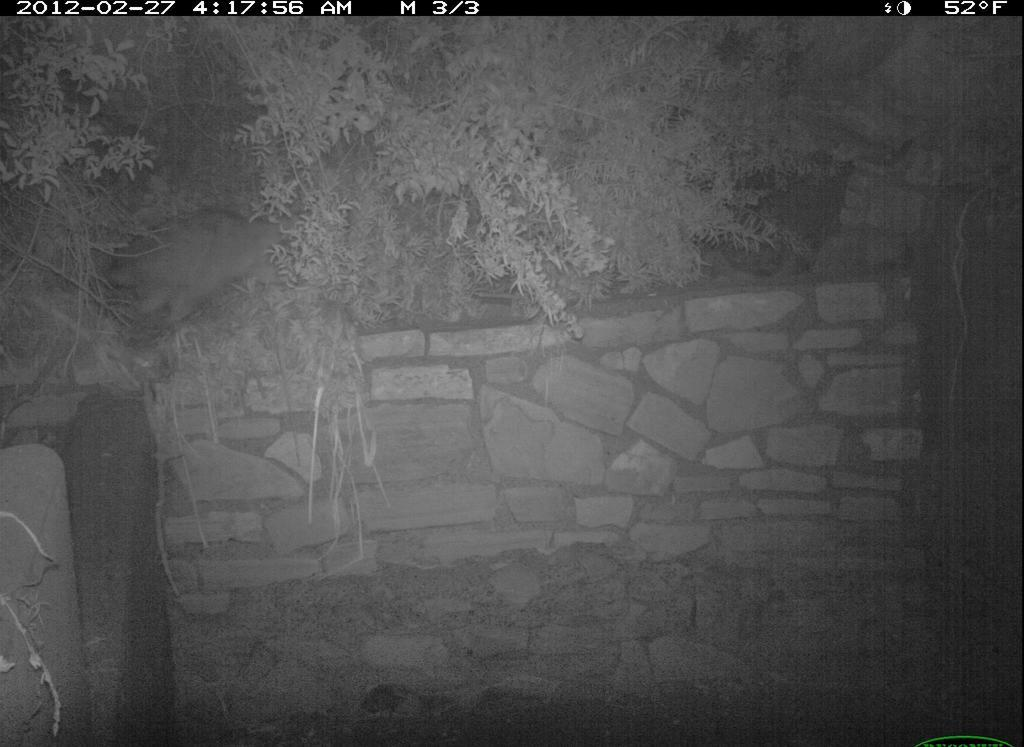raccoon: (98, 200, 340, 328)
